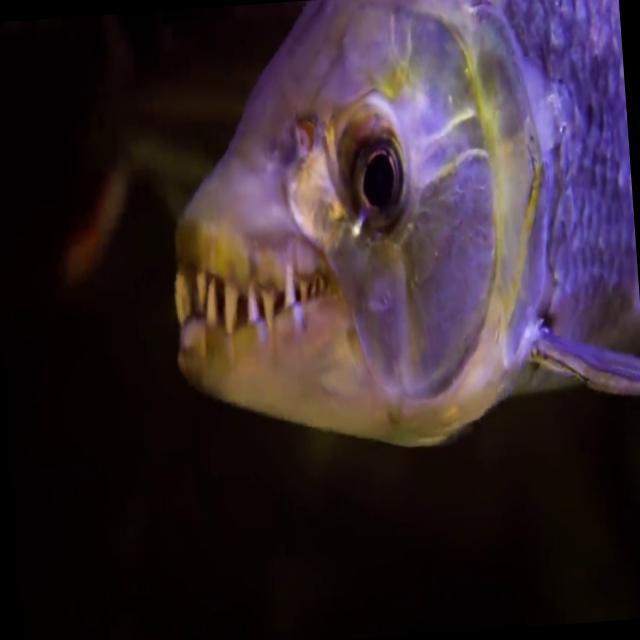fish: (141, 0, 640, 476)
